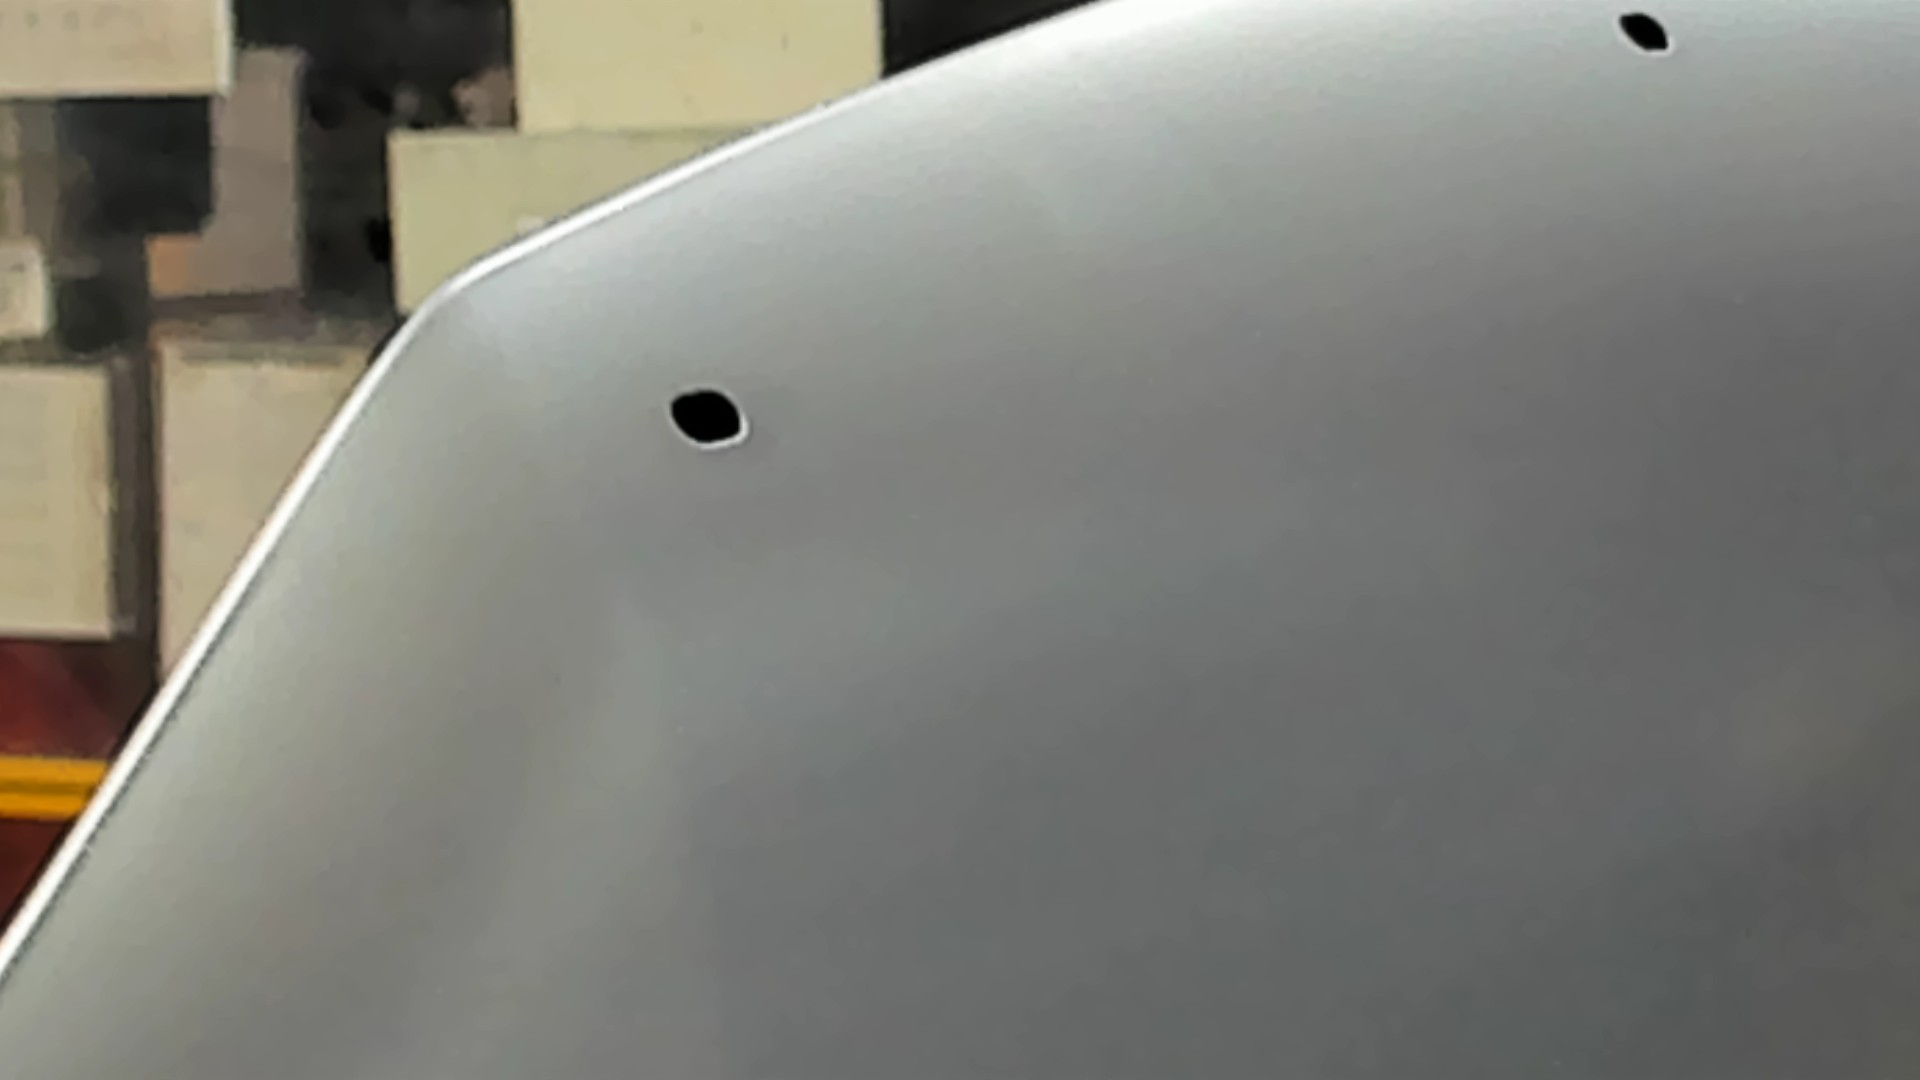amorfo: (657, 382, 765, 450), (1613, 3, 1677, 58)
